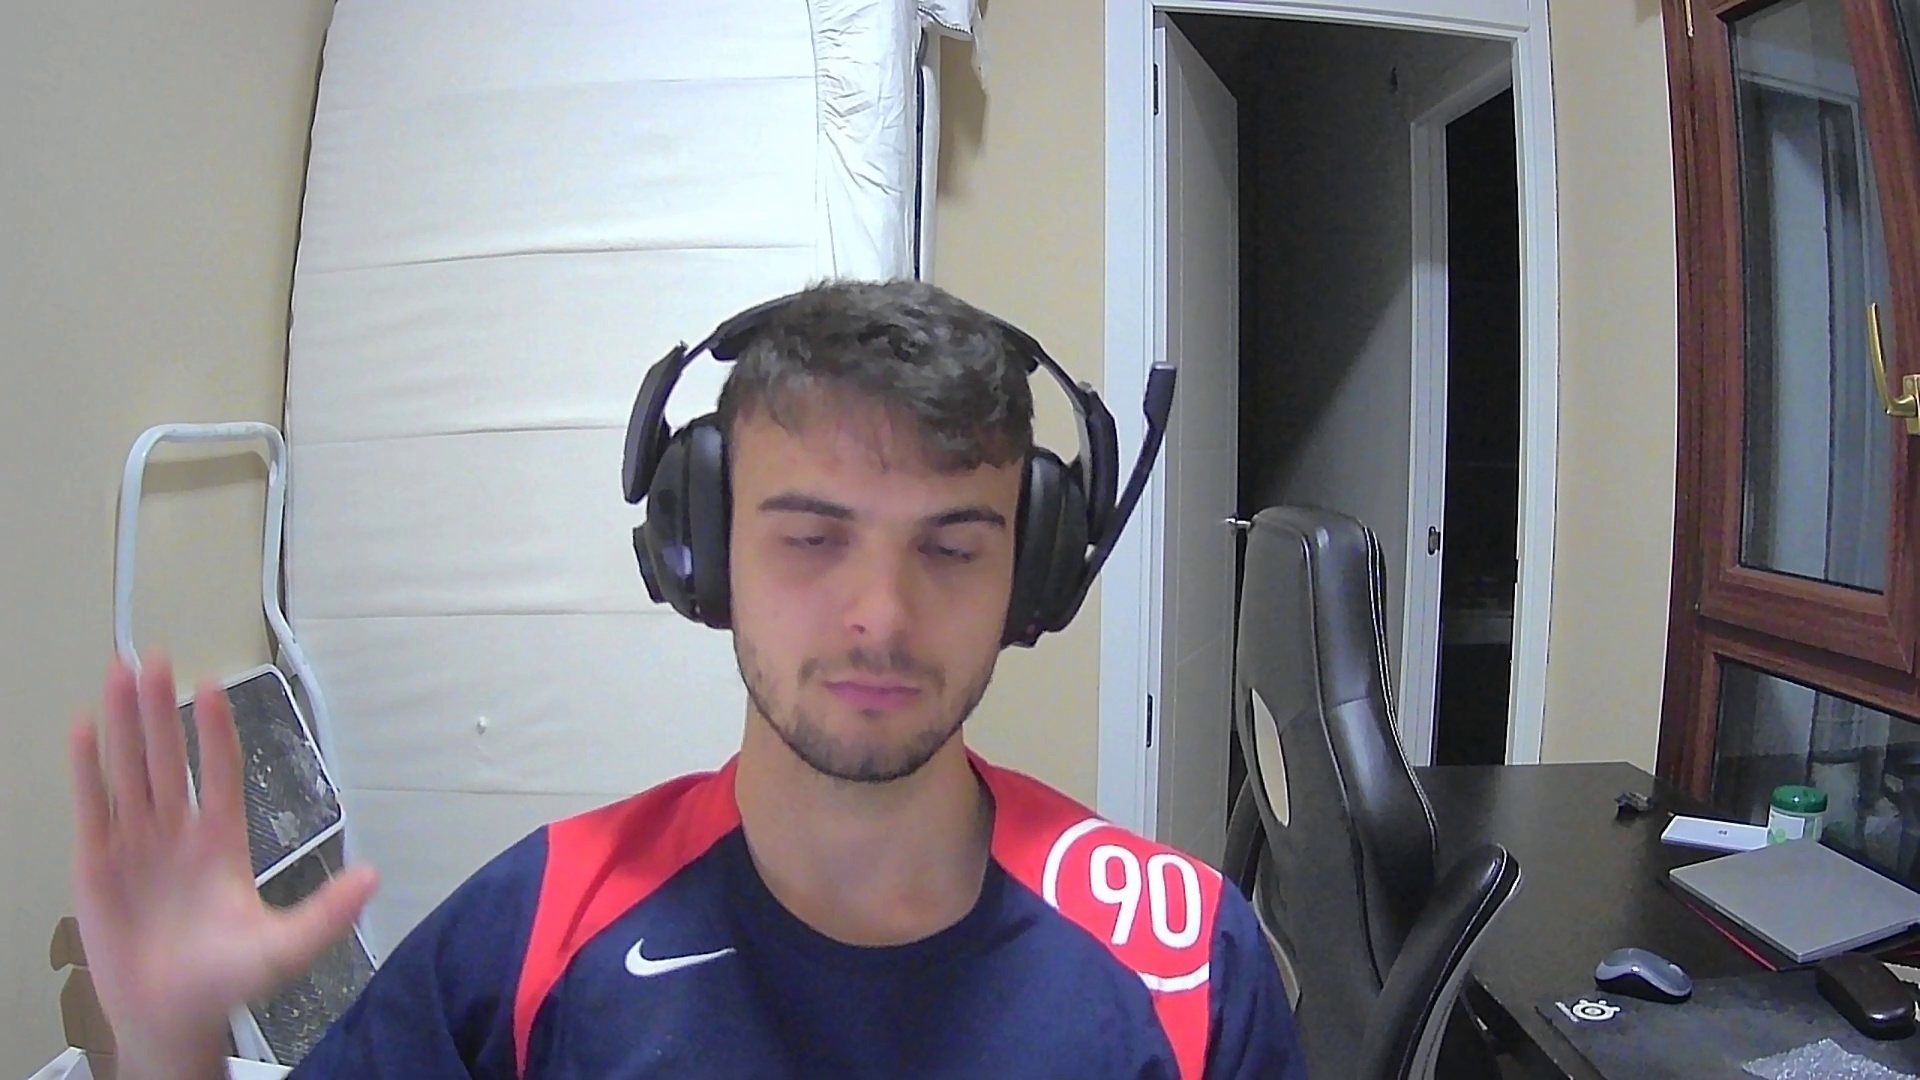Palm: (59, 644, 380, 1047)
